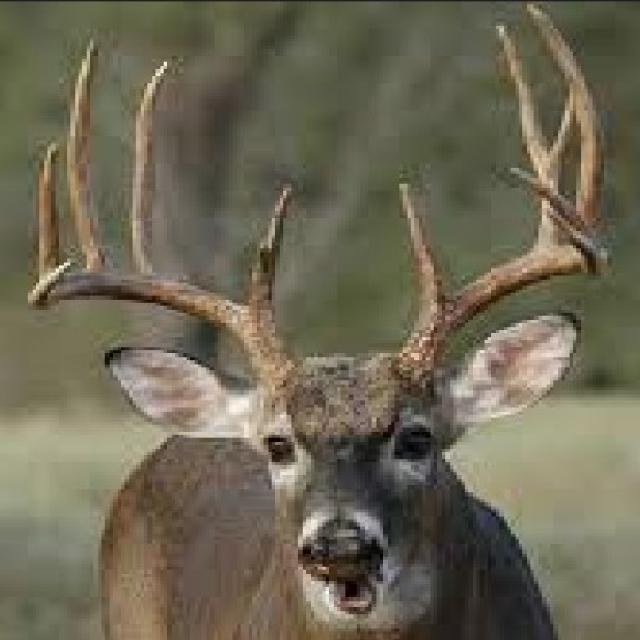L-F: (391, 206, 611, 391)
L-G1: (398, 181, 451, 320)
R-F: (26, 257, 299, 387)
R-G1: (246, 181, 294, 323)
R-G2: (129, 58, 174, 272)
R-G3: (64, 36, 111, 270)
R-G4: (32, 141, 60, 281)
